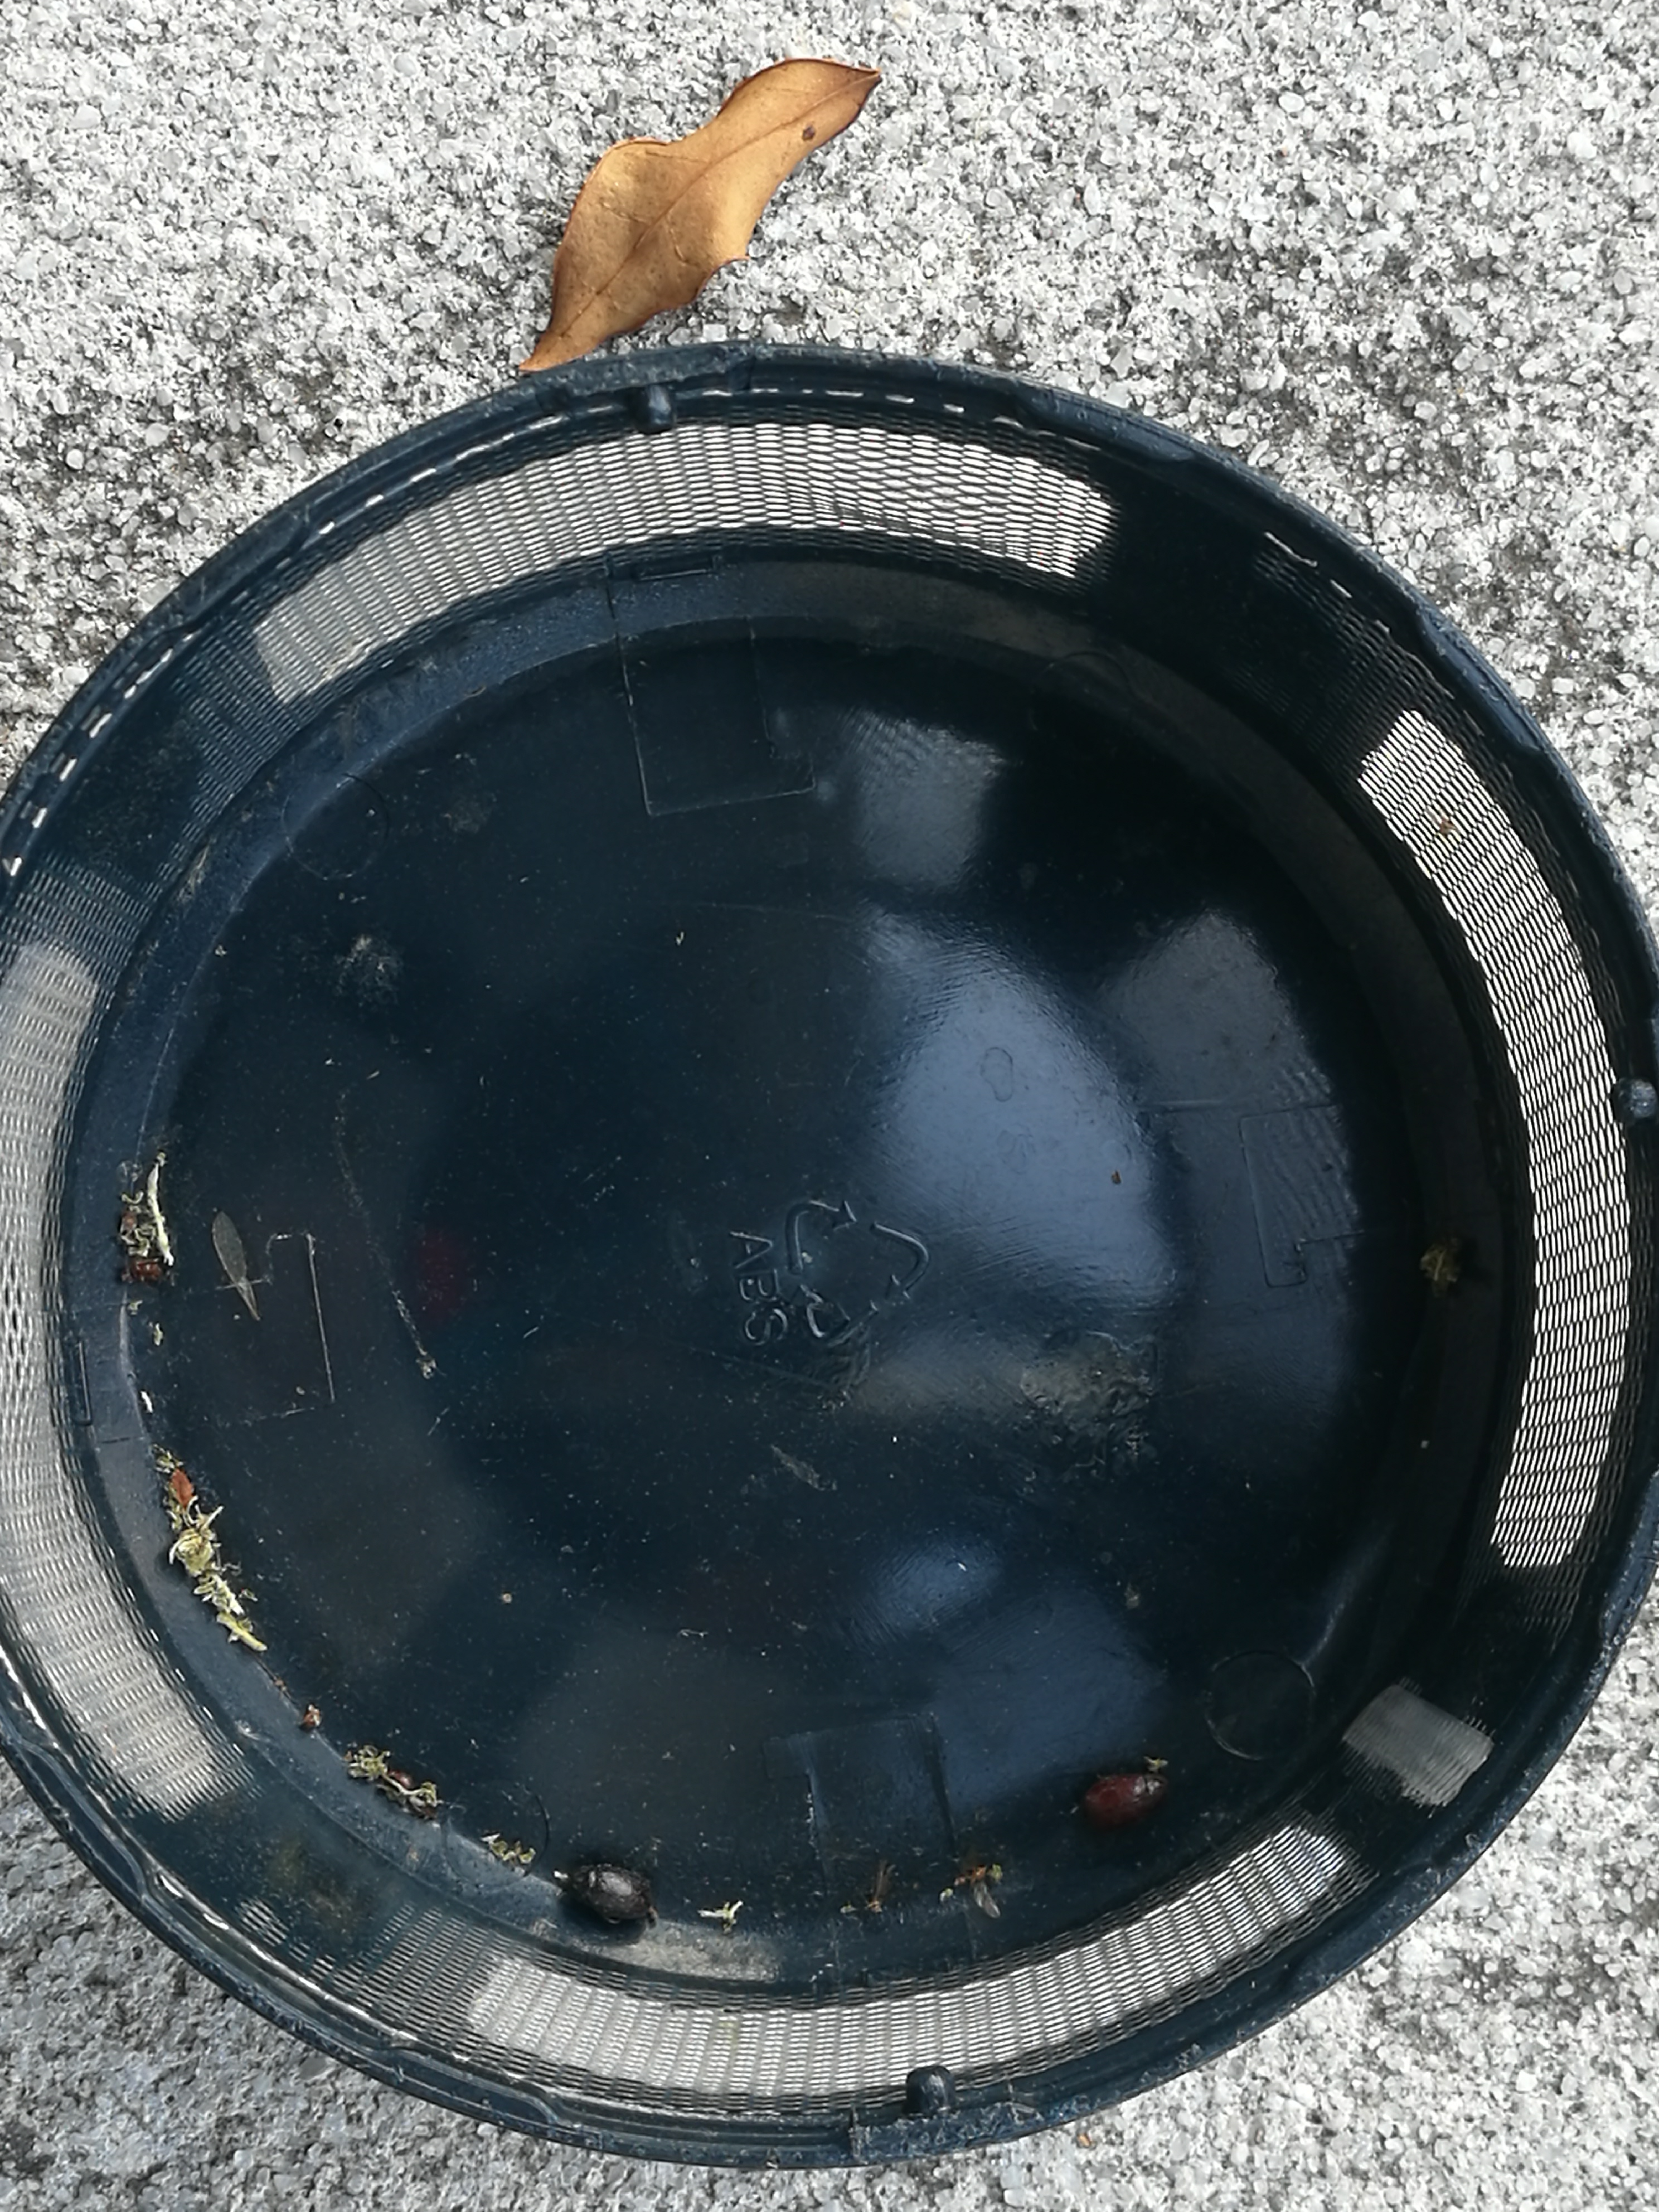beetle: (1082, 1773, 1166, 1829), (568, 1867, 650, 1919)
